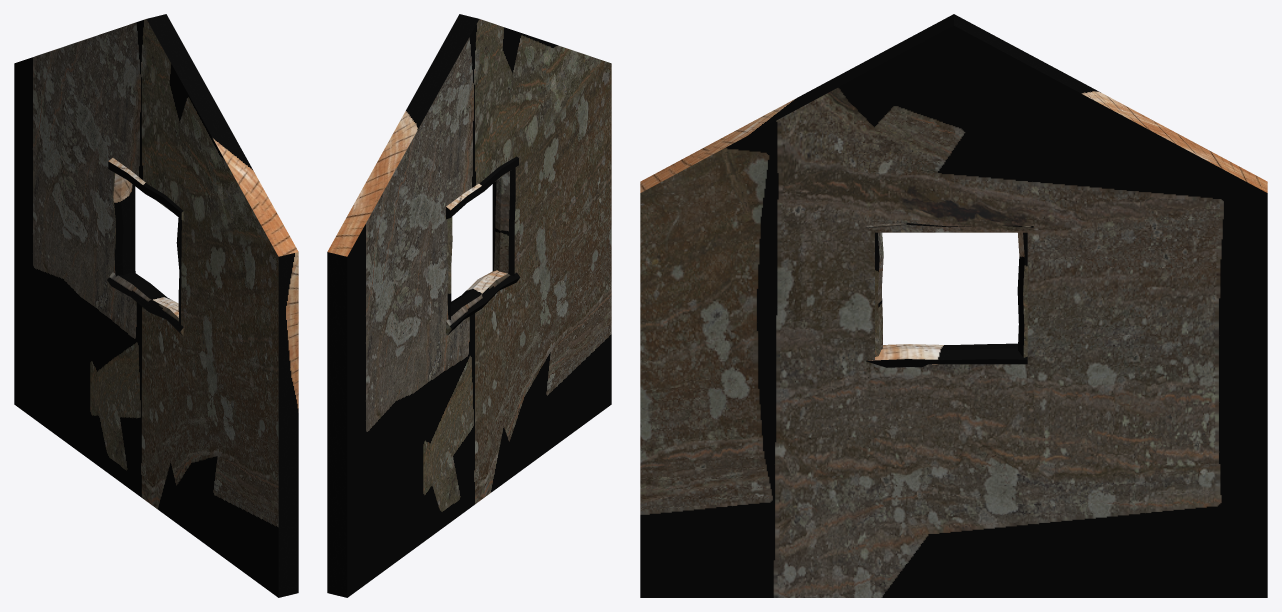
3 views of the same model, side by side, from view 1: azimuth 30°, elevation 25°; view 2: azimuth 150°, elevation 25°; view 3: azimuth 270°, elevation 25° (orthographic). The views are drawn at different scales.
Parts seen in each view (by area): view 1: Cylinder.001_Baked; view 2: Cylinder.001_Baked; view 3: Cylinder.001_Baked.
Part boxes in pixels (x1=…): Cylinder.001_Baked: x1=14, y1=14, x2=298, y2=597; Cylinder.001_Baked: x1=327, y1=14, x2=611, y2=597; Cylinder.001_Baked: x1=640, y1=14, x2=1267, y2=597.
Bounding box in the file's own units: 22.35 × 376 × 373.
